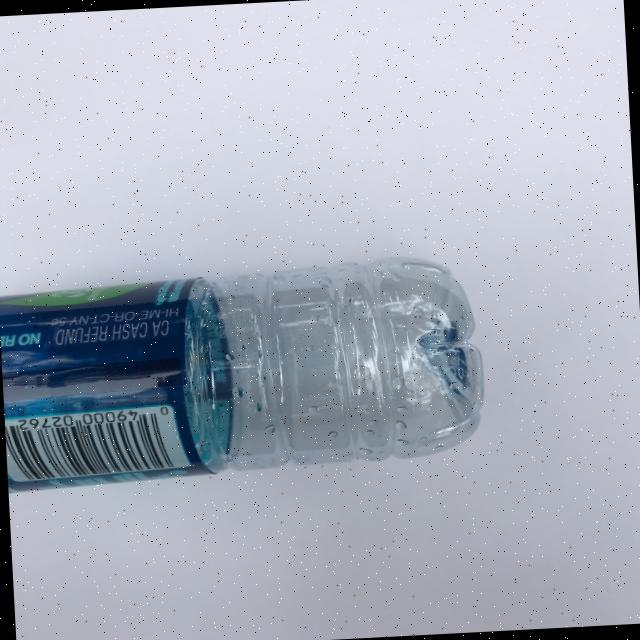plastic: (0, 251, 488, 492)
